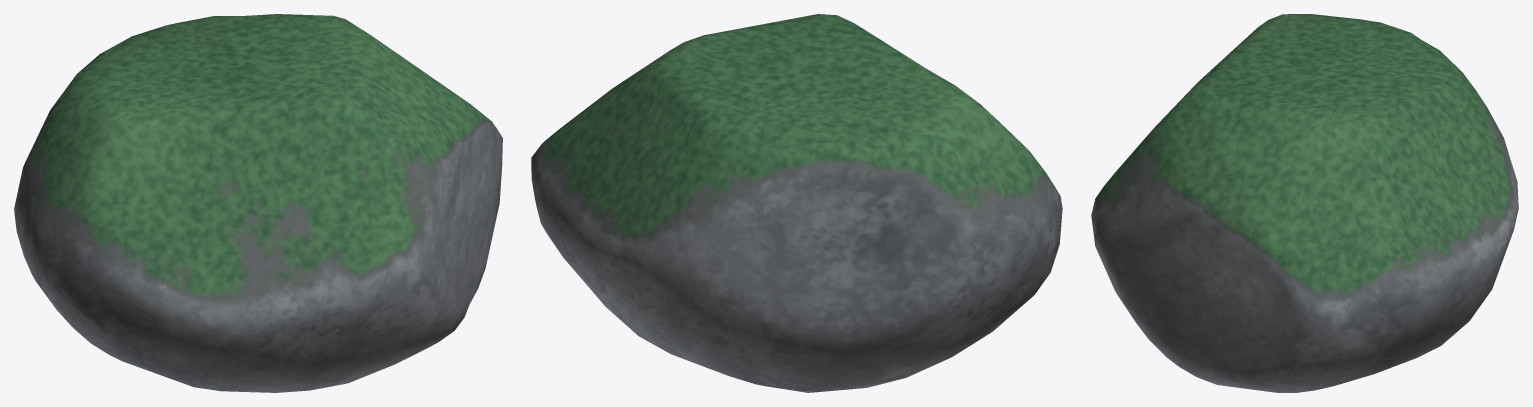
Rendered from creature_boulder_a.glb.
The picture shows the model from 3 angles, left to right: view 1: azimuth 30°, elevation 25°; view 2: azimuth 150°, elevation 25°; view 3: azimuth 270°, elevation 25°; orthographic projection. The views are drawn at different scales.
Parts seen in each view (by area): view 1: BoulderA; view 2: BoulderA; view 3: BoulderA.
Part boxes in pixels (x1,y1,x2,y2): BoulderA: [14, 14, 502, 392]; BoulderA: [531, 14, 1062, 392]; BoulderA: [1091, 14, 1518, 392].
Bounding box in the file's own units: 1 × 0.6028 × 0.8204.
Materials: 1 (1 with a texture image).
